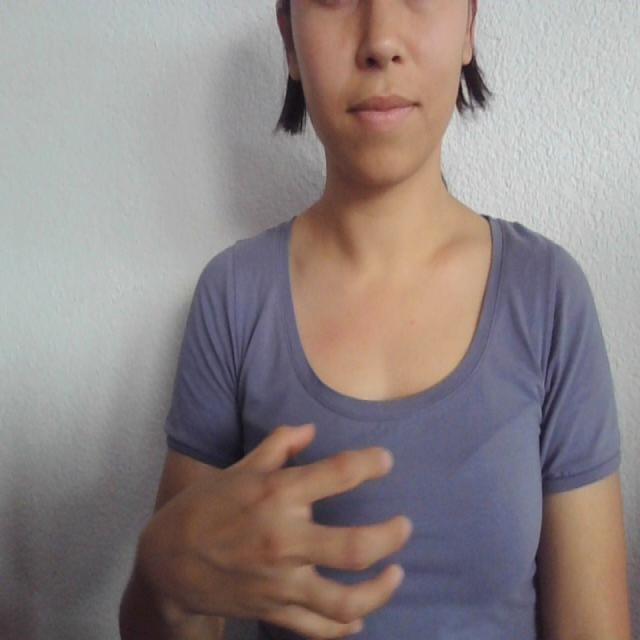Anne: (150, 410, 511, 640)
